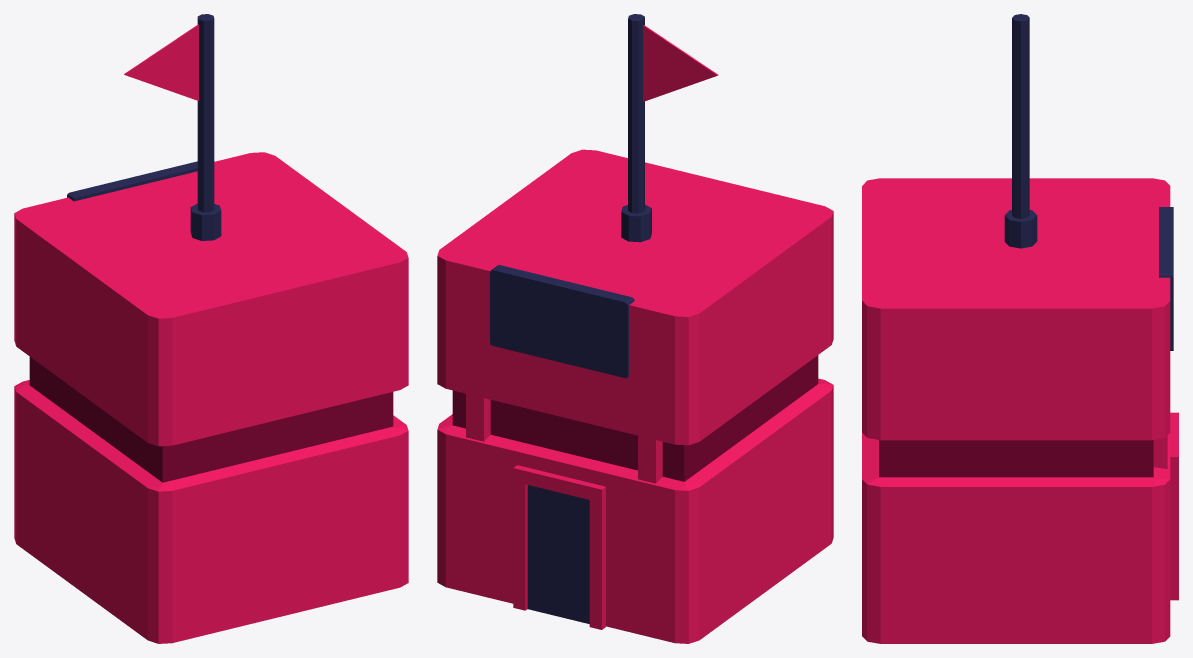
File: Red_House2.fbx
3 renders of one model, left to right at view 1: azimuth 30°, elevation 25°; view 2: azimuth 150°, elevation 25°; view 3: azimuth 270°, elevation 25°, orthographic. The views are drawn at different scales.
Parts seen in each view (by area): view 1: Red_House_1.002; view 2: Red_House_1.002; view 3: Red_House_1.002.
Boxes of the visible parts, x1,y1,x2,y2 form: Red_House_1.002: (14, 14, 408, 643); Red_House_1.002: (437, 14, 833, 643); Red_House_1.002: (862, 14, 1178, 643).
Size of the model in its own units: 0.1799 by 0.3604 by 0.1848.
1 material, 1 textured.
